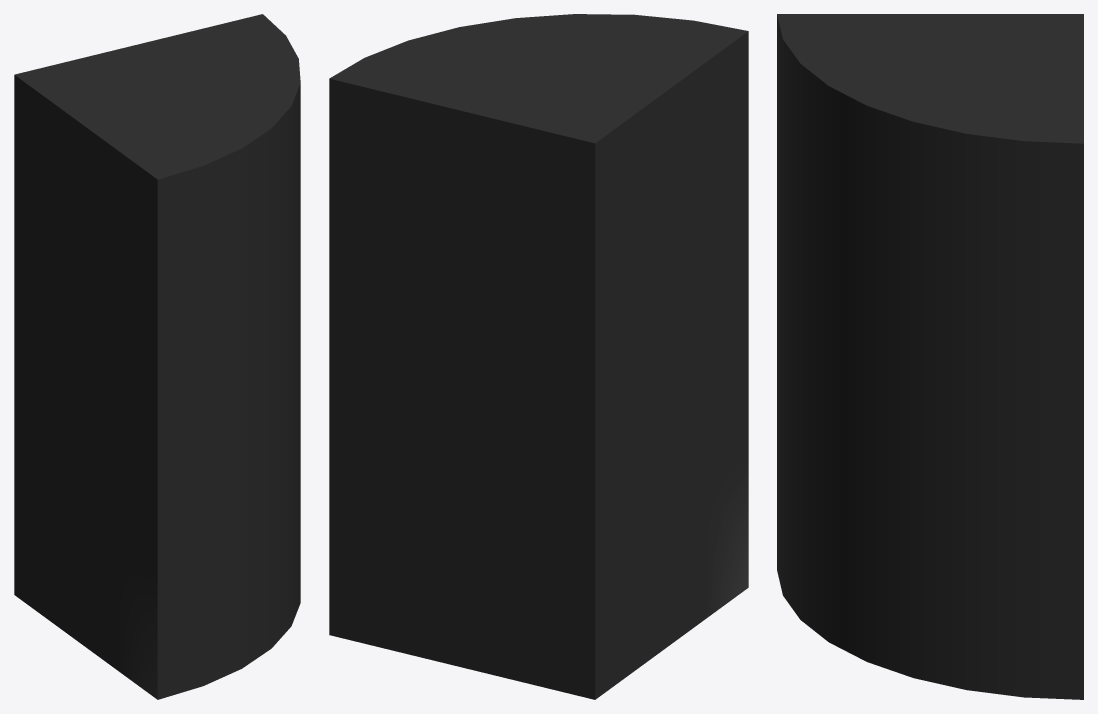
The model's file is SM_QuarterCylinder.fbx.
3 renders of one model, left to right at view 1: azimuth 30°, elevation 25°; view 2: azimuth 150°, elevation 25°; view 3: azimuth 270°, elevation 25°, orthographic. The views are drawn at different scales.
Parts seen in each view (by area): view 1: SM_QuarterCylinder; view 2: SM_QuarterCylinder; view 3: SM_QuarterCylinder.
Boxes of the visible parts, bbox=[...] form: SM_QuarterCylinder: bbox=[14, 14, 300, 699]; SM_QuarterCylinder: bbox=[329, 14, 748, 699]; SM_QuarterCylinder: bbox=[777, 14, 1083, 699].
Bounding box in the file's own units: 50 × 50 × 100.
Materials: 1 (1 with a texture image).
